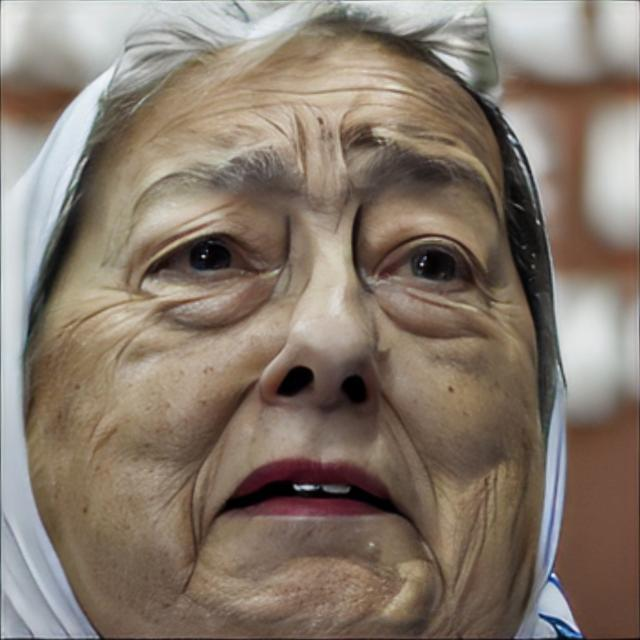sad: (26, 51, 547, 640)
